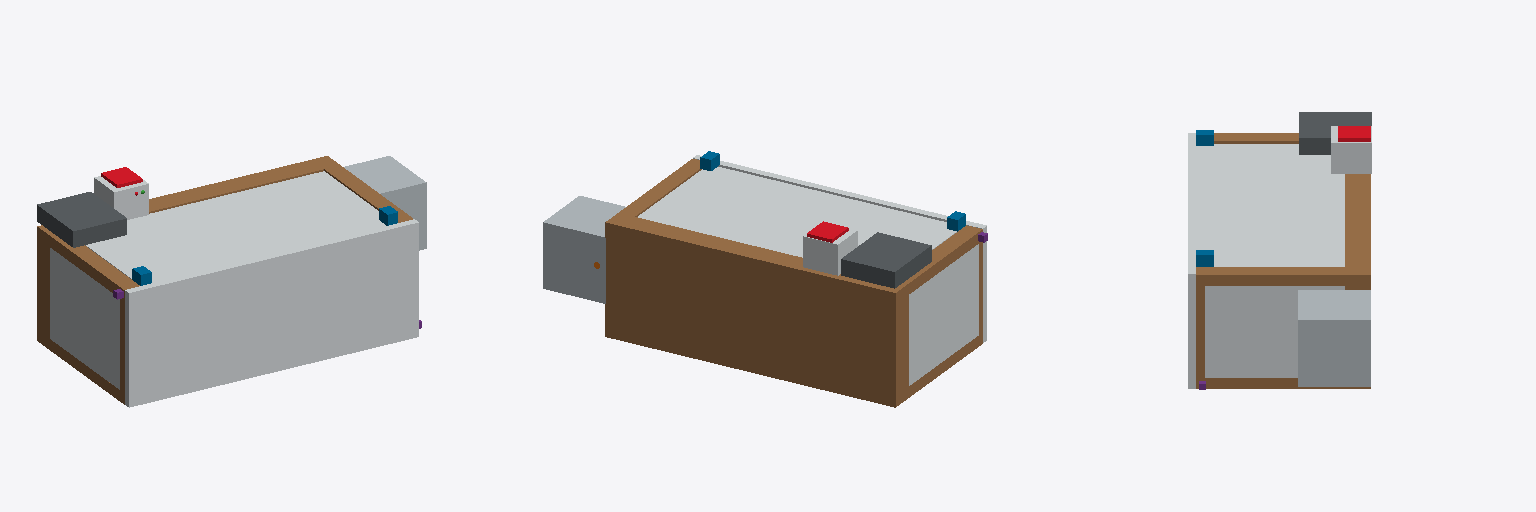
Rendered from tinker.obj.
3 views of the same model, side by side, from view 1: azimuth 30°, elevation 25°; view 2: azimuth 150°, elevation 25°; view 3: azimuth 270°, elevation 25° (orthographic).
Visible parts, largest first — view 1: obj_0; view 2: obj_0; view 3: obj_0.
Boxes of the visible parts, x1=… form: obj_0: x1=37, y1=156, x2=426, y2=407; obj_0: x1=543, y1=151, x2=987, y2=407; obj_0: x1=1188, y1=112, x2=1371, y2=389.
Bounding box in the file's own units: 113 × 46 × 50.32.